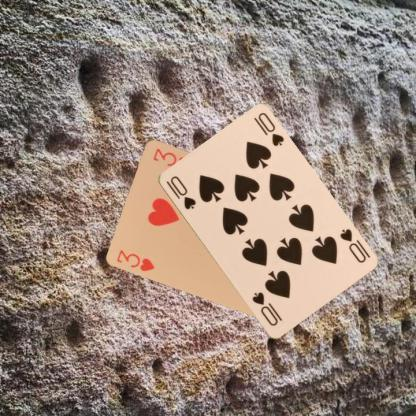10s: (163, 173, 197, 211), (336, 226, 367, 264)
3h: (114, 246, 156, 272)
